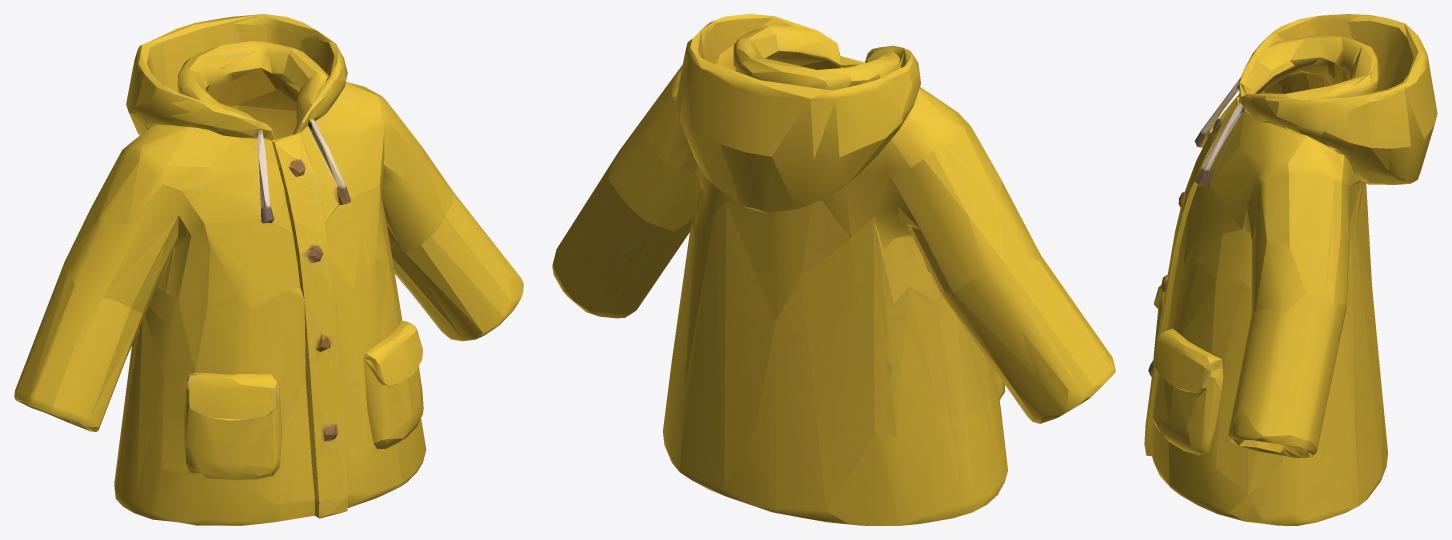
Rendered from raincoat.fbx.
3 views of the same model, side by side, from view 1: azimuth 30°, elevation 25°; view 2: azimuth 150°, elevation 25°; view 3: azimuth 270°, elevation 25° (orthographic). The views are drawn at different scales.
Parts seen in each view (by area): view 1: Mesh_0; view 2: Mesh_0; view 3: Mesh_0.
Boxes of the visible parts, x1,y1,x2,y2 form: Mesh_0: (14, 14, 523, 525); Mesh_0: (552, 14, 1115, 525); Mesh_0: (1144, 14, 1437, 525).
Size of the model in its own units: 1.89 by 1.48 by 0.9669.
Materials: 1 (1 with a texture image).
